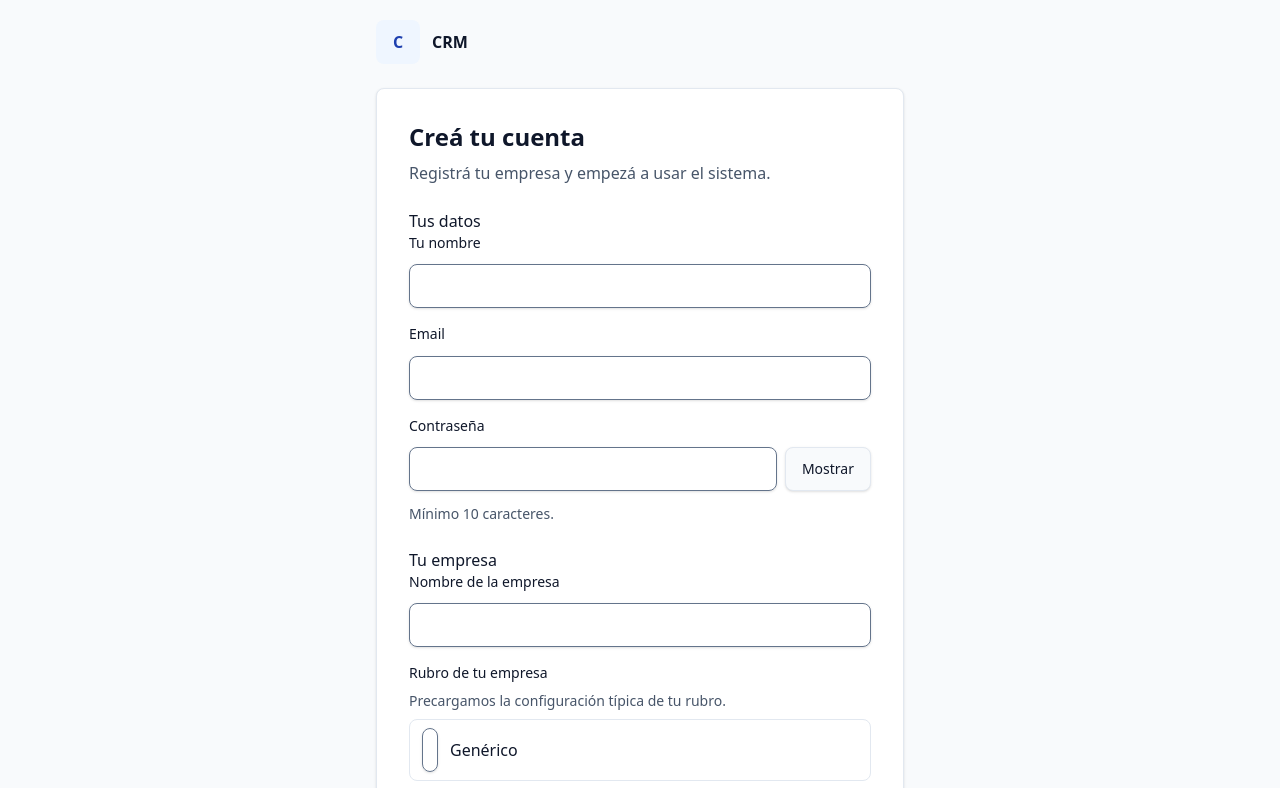
Test case: SignupPage › posts normalized values and the browser timezone once, then replaces the form with the dashboard
The image size is (1280, 788).
Type " Ana Pérez " into the field labelled "Tu nombre".
click(640, 286); type(" Ana Pérez ")  # box [409,264,871,308]
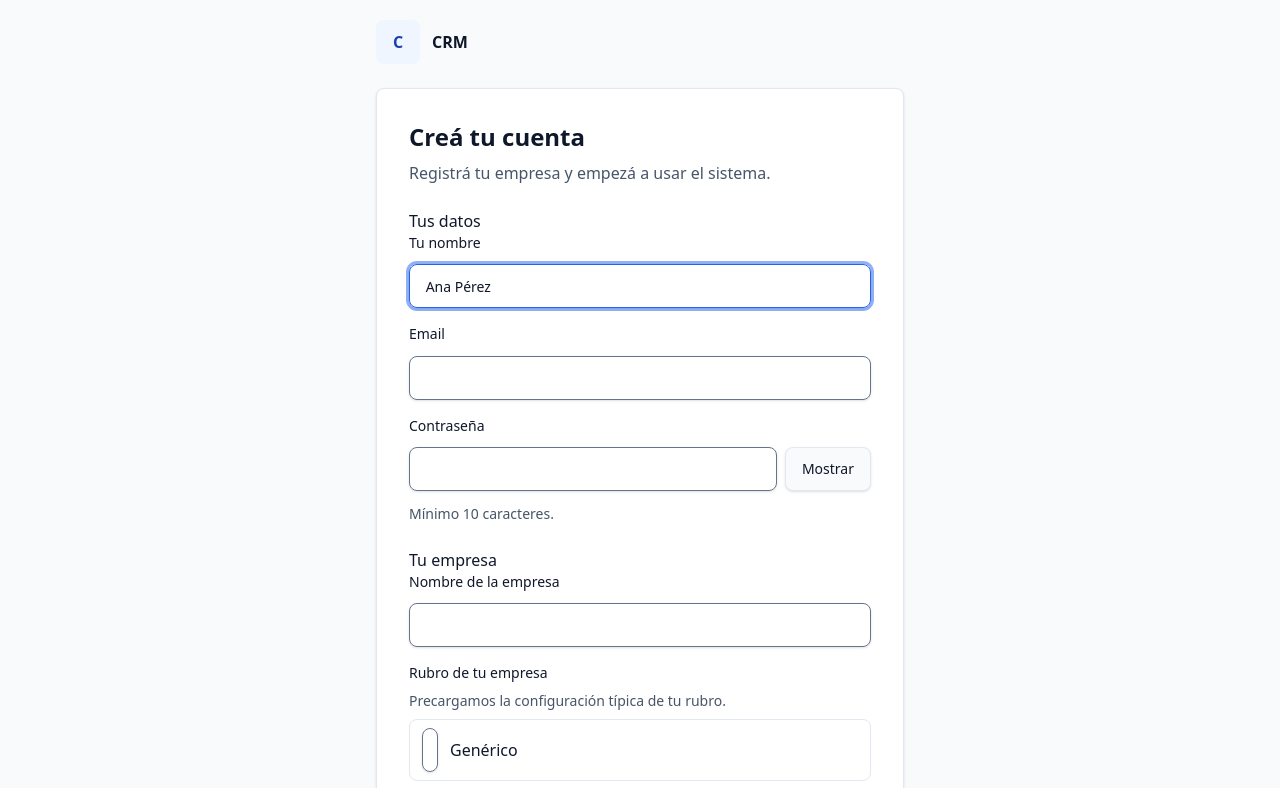
Type " ANA@example.test " into the field labelled "Email".
click(640, 378); type(" ANA@example.test ")  # box [409,356,871,400]
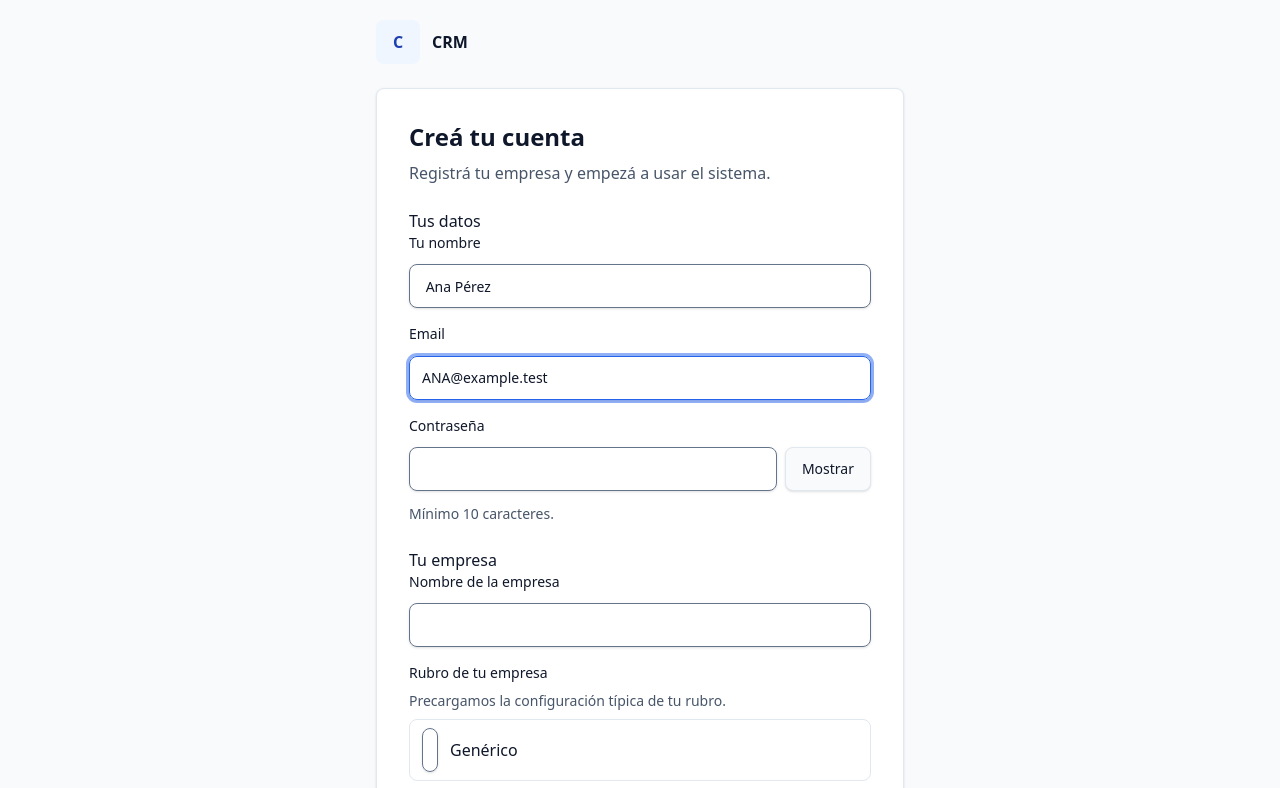
Type "contraseña-segura" into the password field labelled "Contraseña".
click(593, 469); type("contraseña-segura")  # box [409,447,777,491]
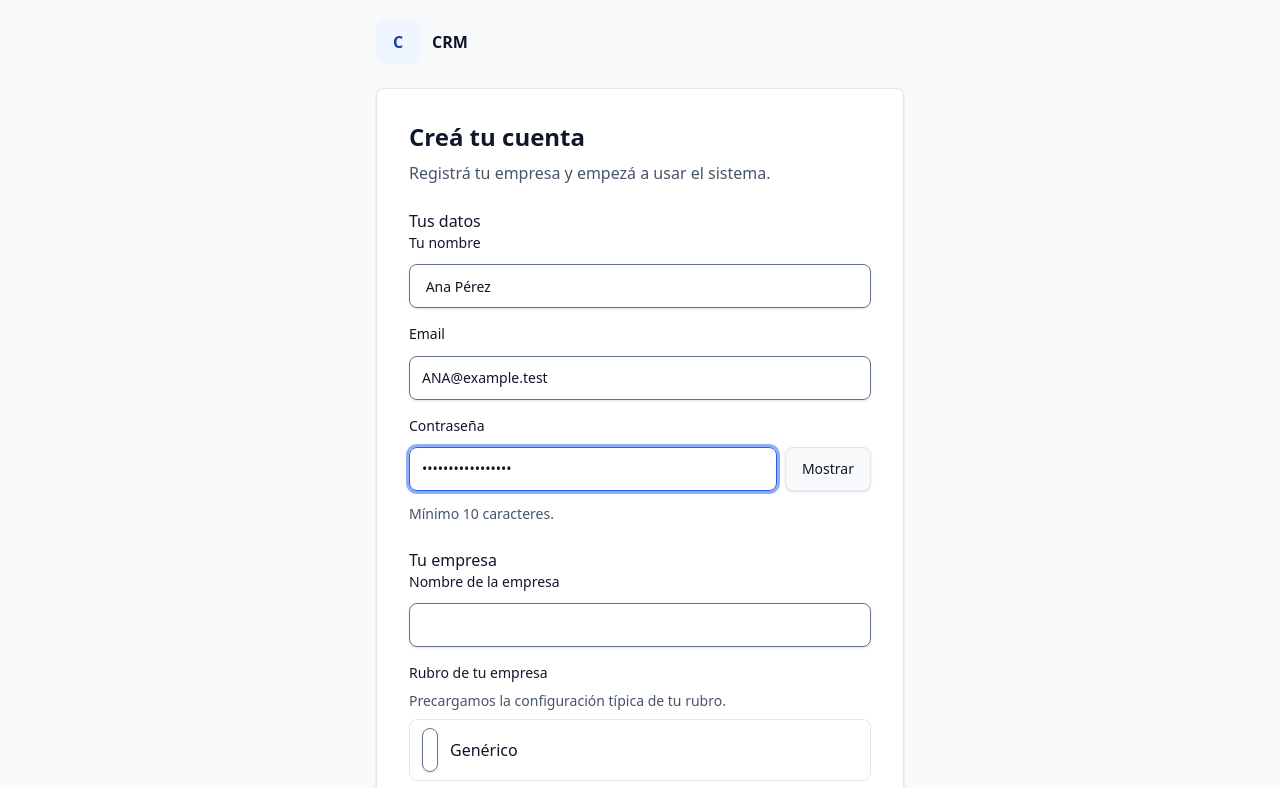
Type " Aberturas Norte " into the field labelled "Nombre de la empresa".
click(640, 625); type(" Aberturas Norte ")  # box [409,603,871,647]
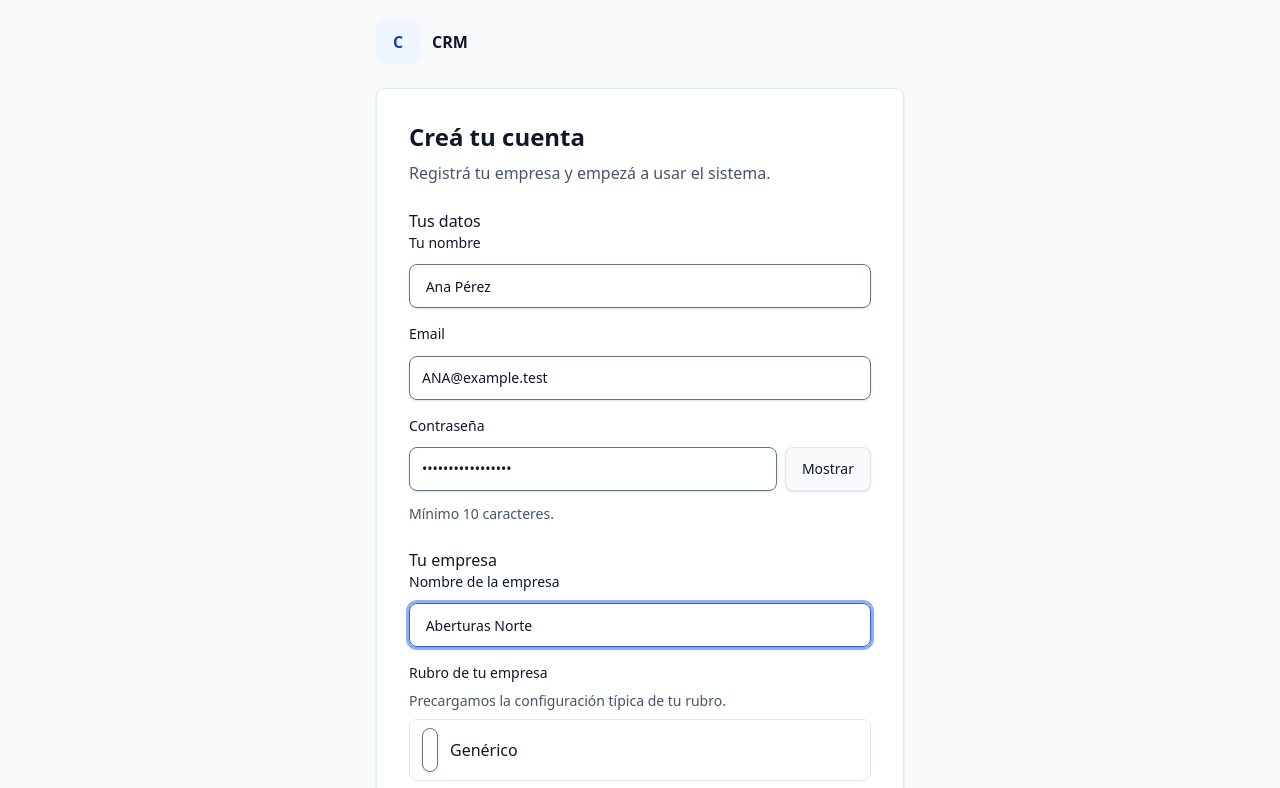
Click the radio button named "Genérico".
click(430, 750)  # box [422,728,438,772]
(page scrolled)
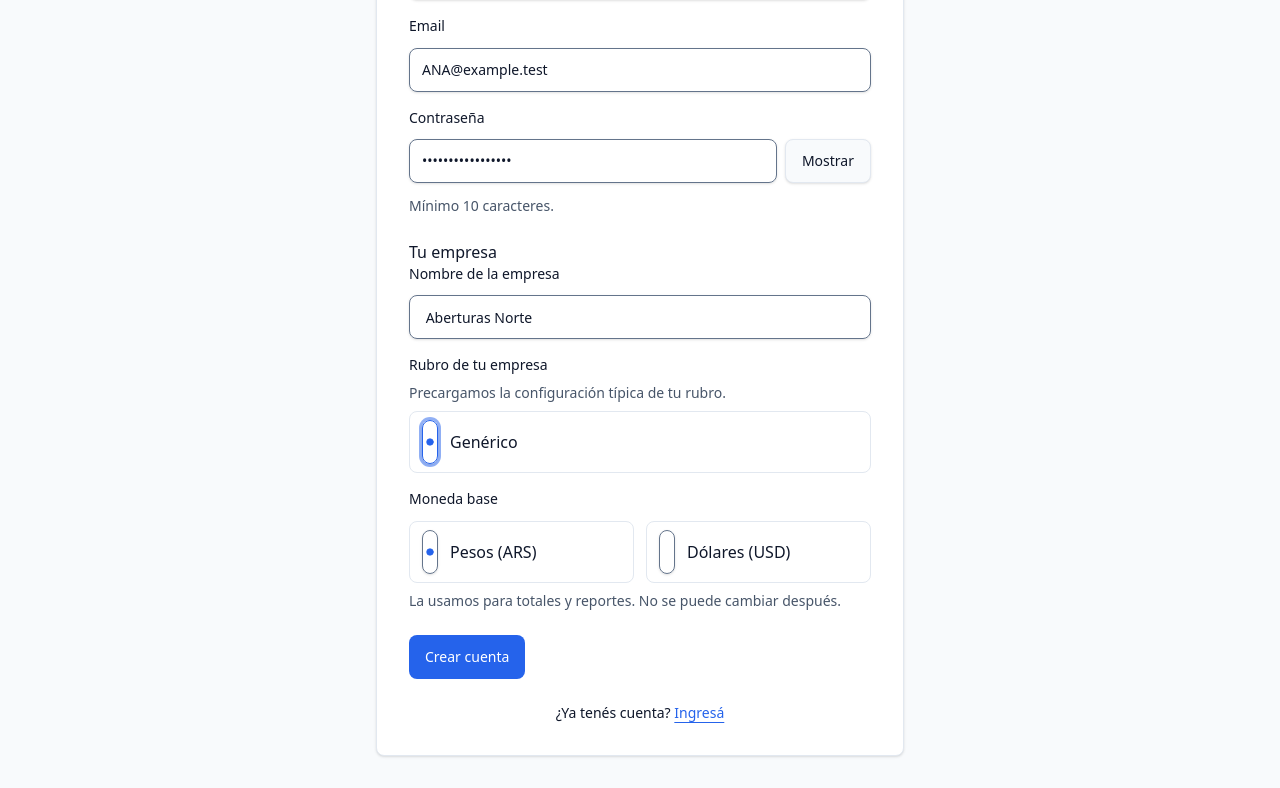
Click the button "Crear cuenta".
click(467, 656)  # box [409,634,525,678]
(page scrolled)
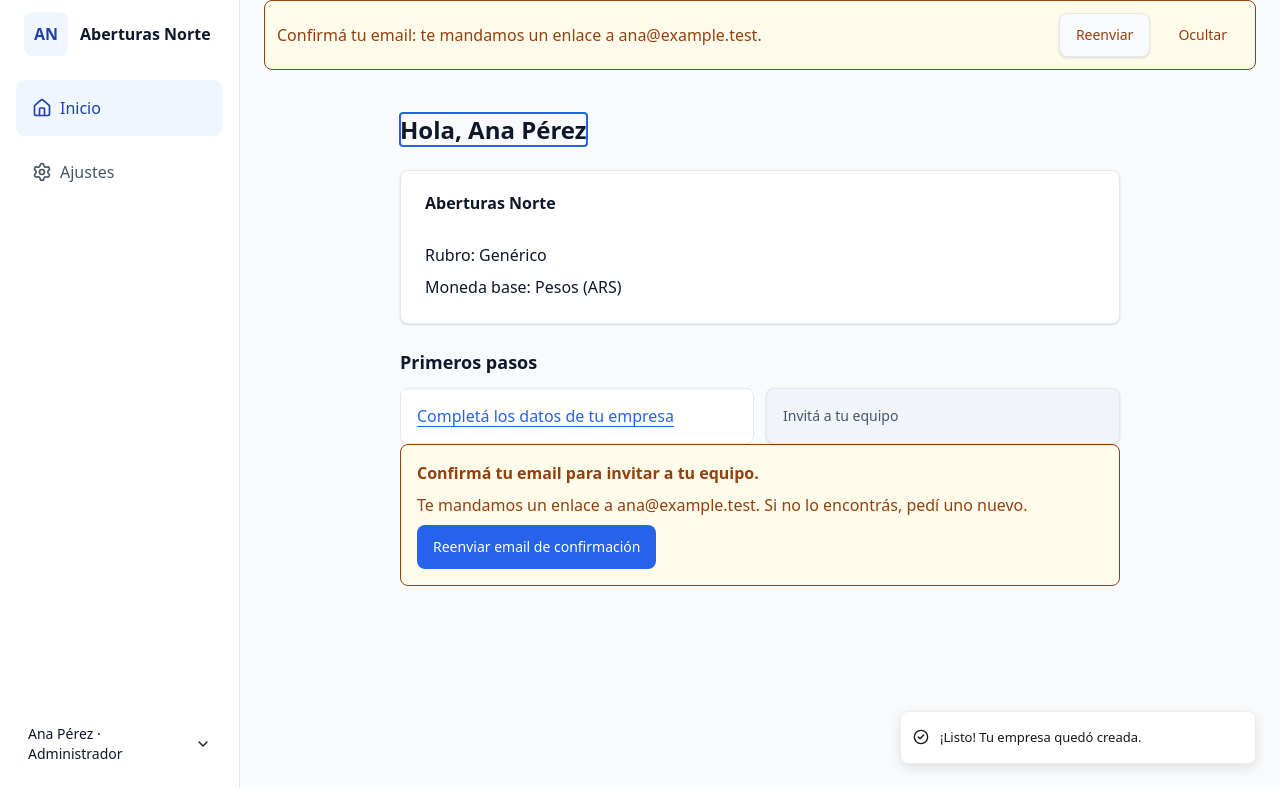
Result: the text "Confirmá tu email: te mandamos un enlace a ana@example.test." is shown at [277,24,762,46]
